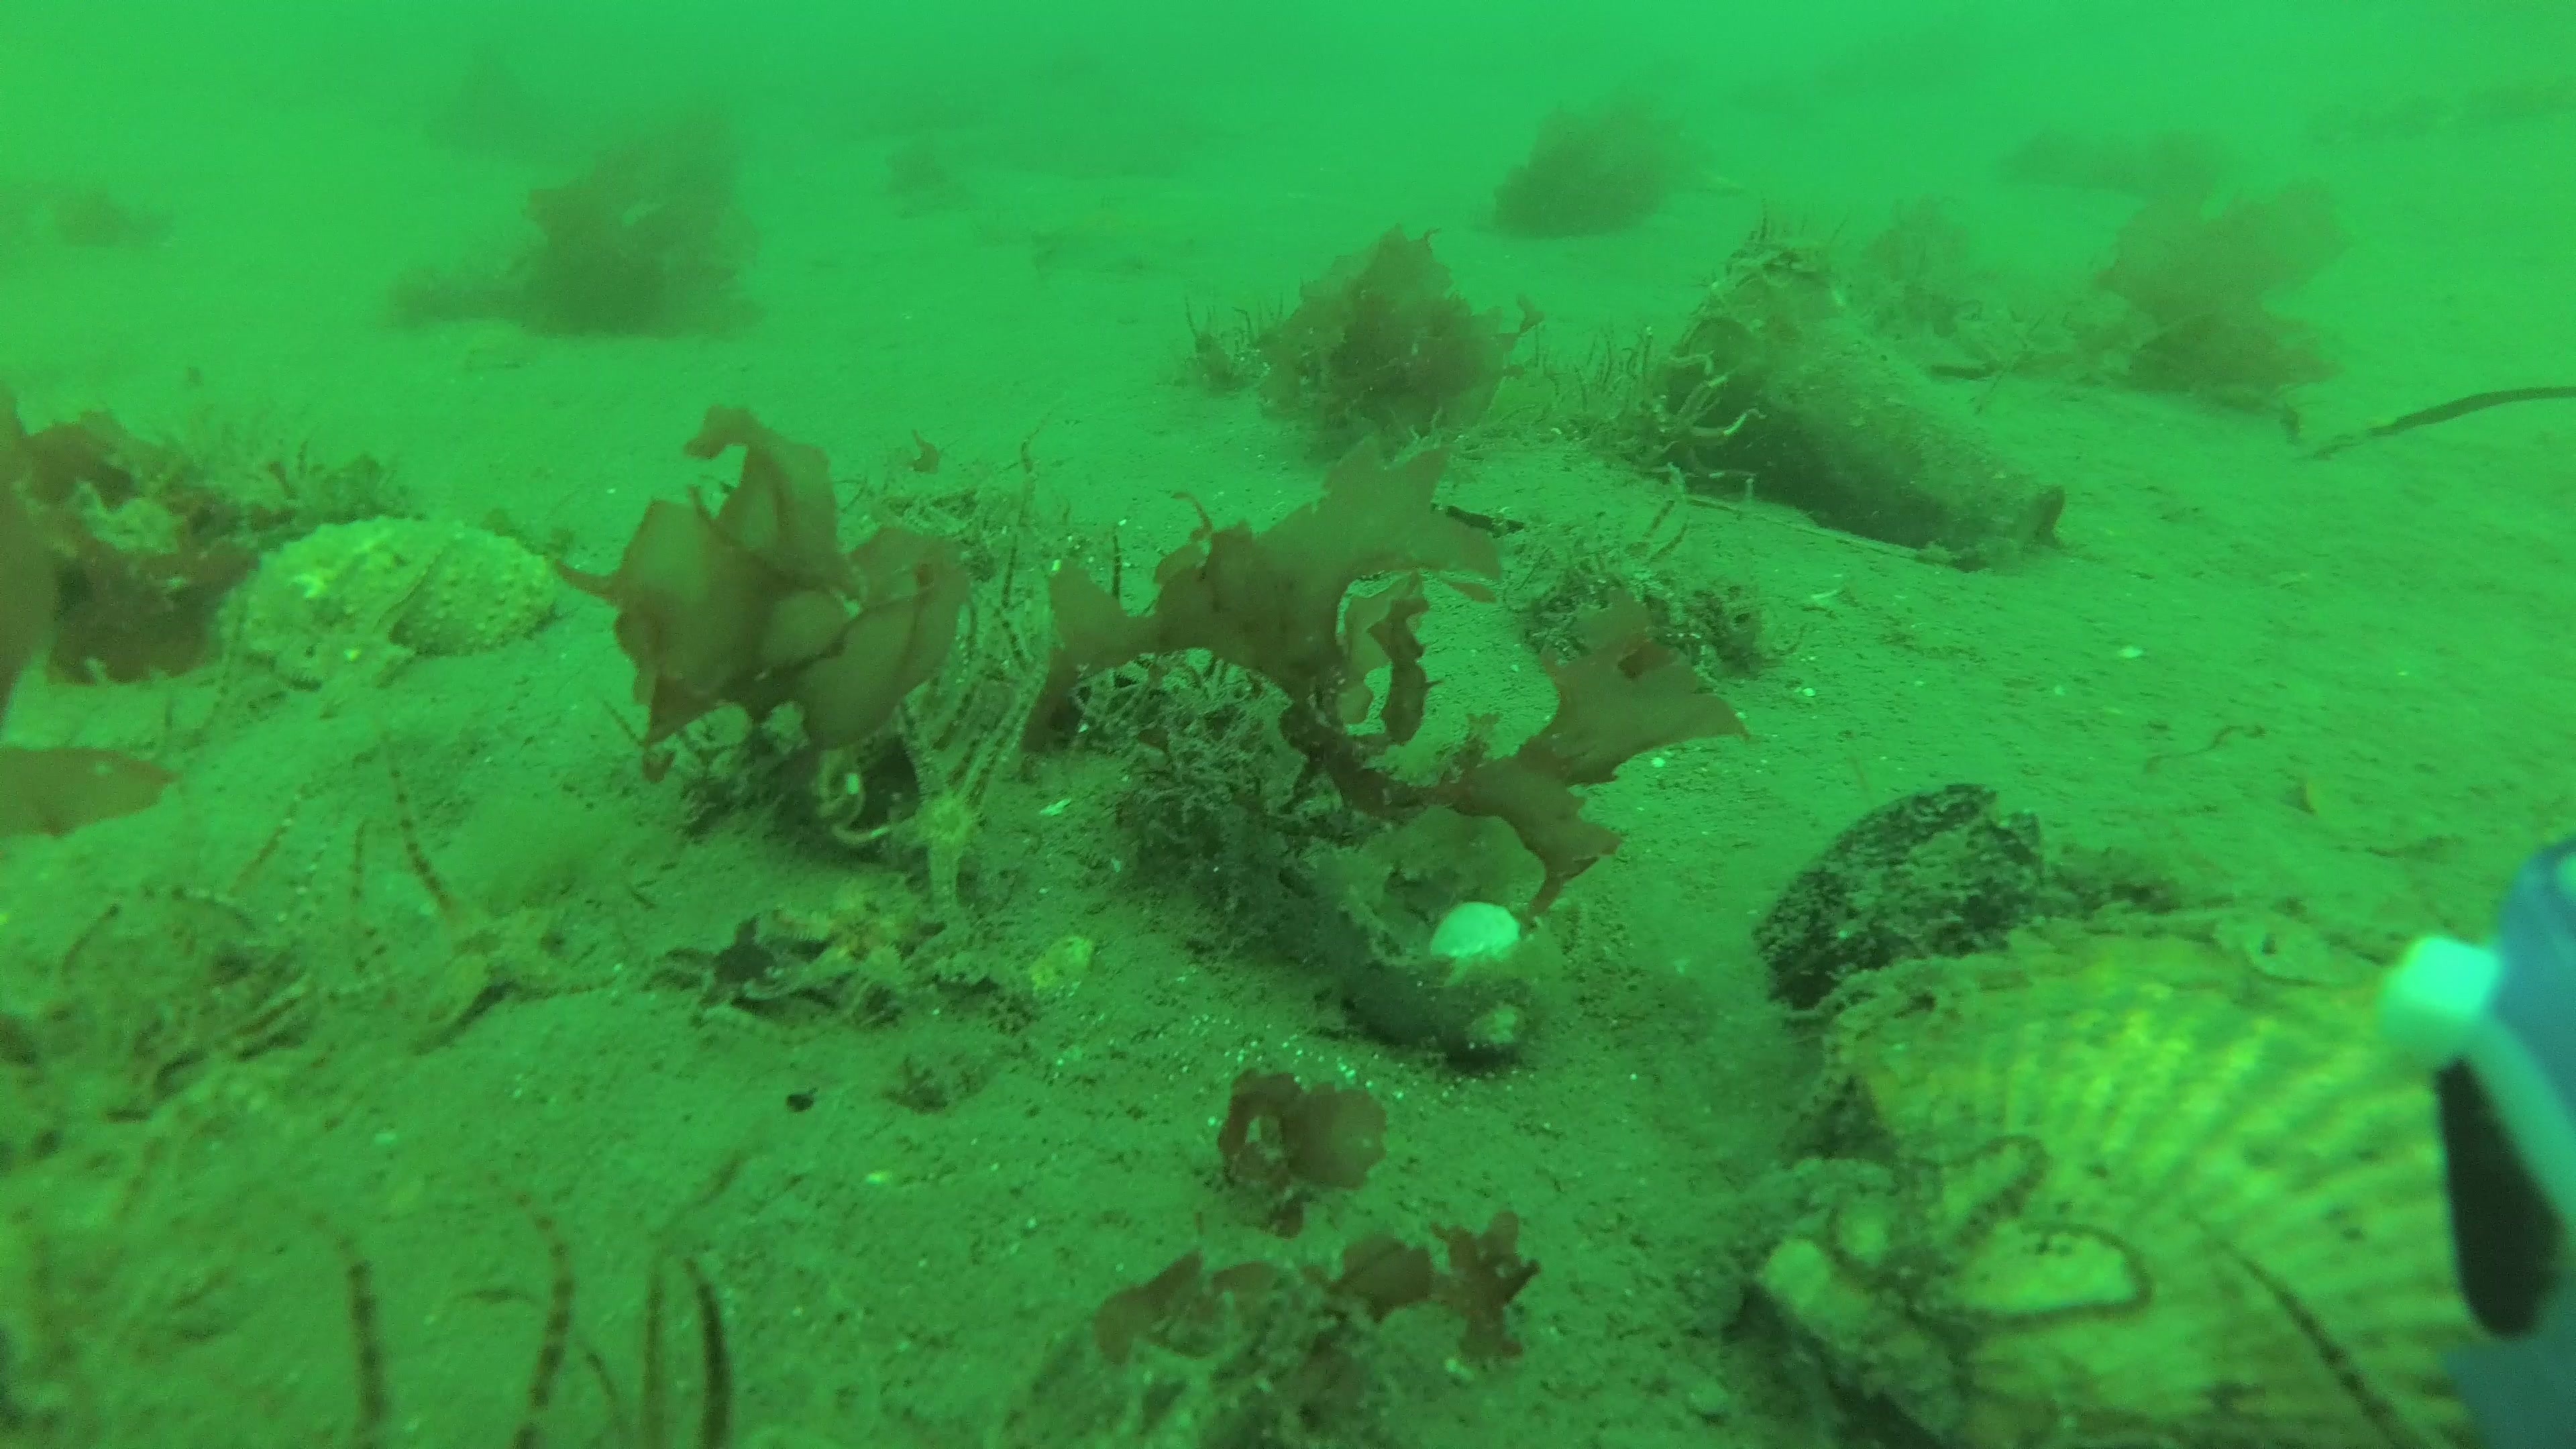scallop: (1760, 909, 2477, 1449)
